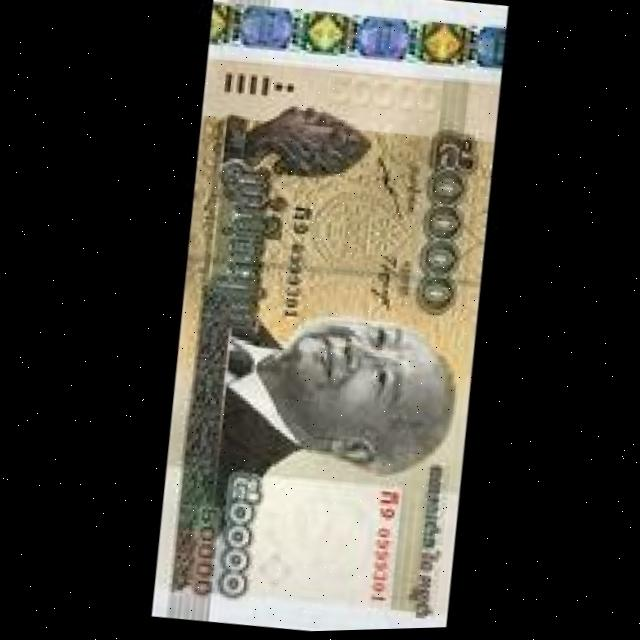banknote: (138, 0, 514, 637), (175, 502, 224, 605)
